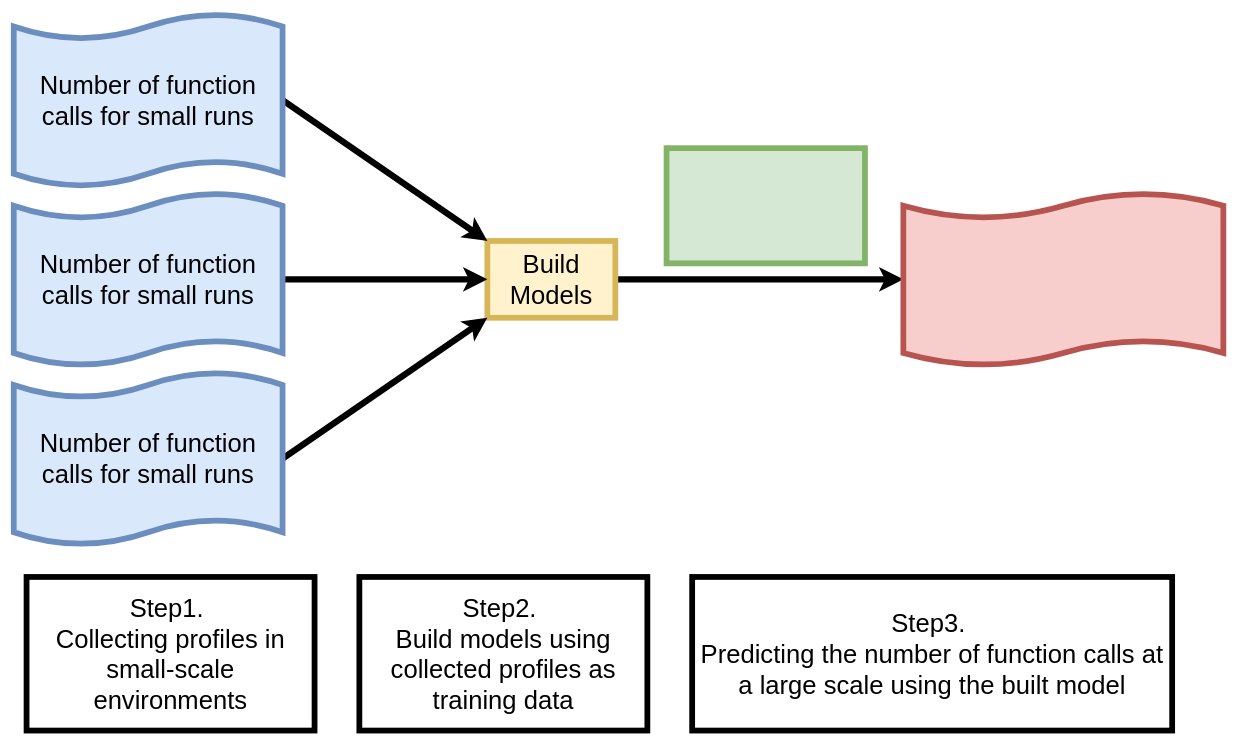
This 1237x744 diagram has some shape labels left out. Here are the shapes that lost their labels. From the top down, the centre of each, then its label:
At (765,205): "Predict Number of function calls".
At (1063,279): "Predicted Number of function calls for large runs".
